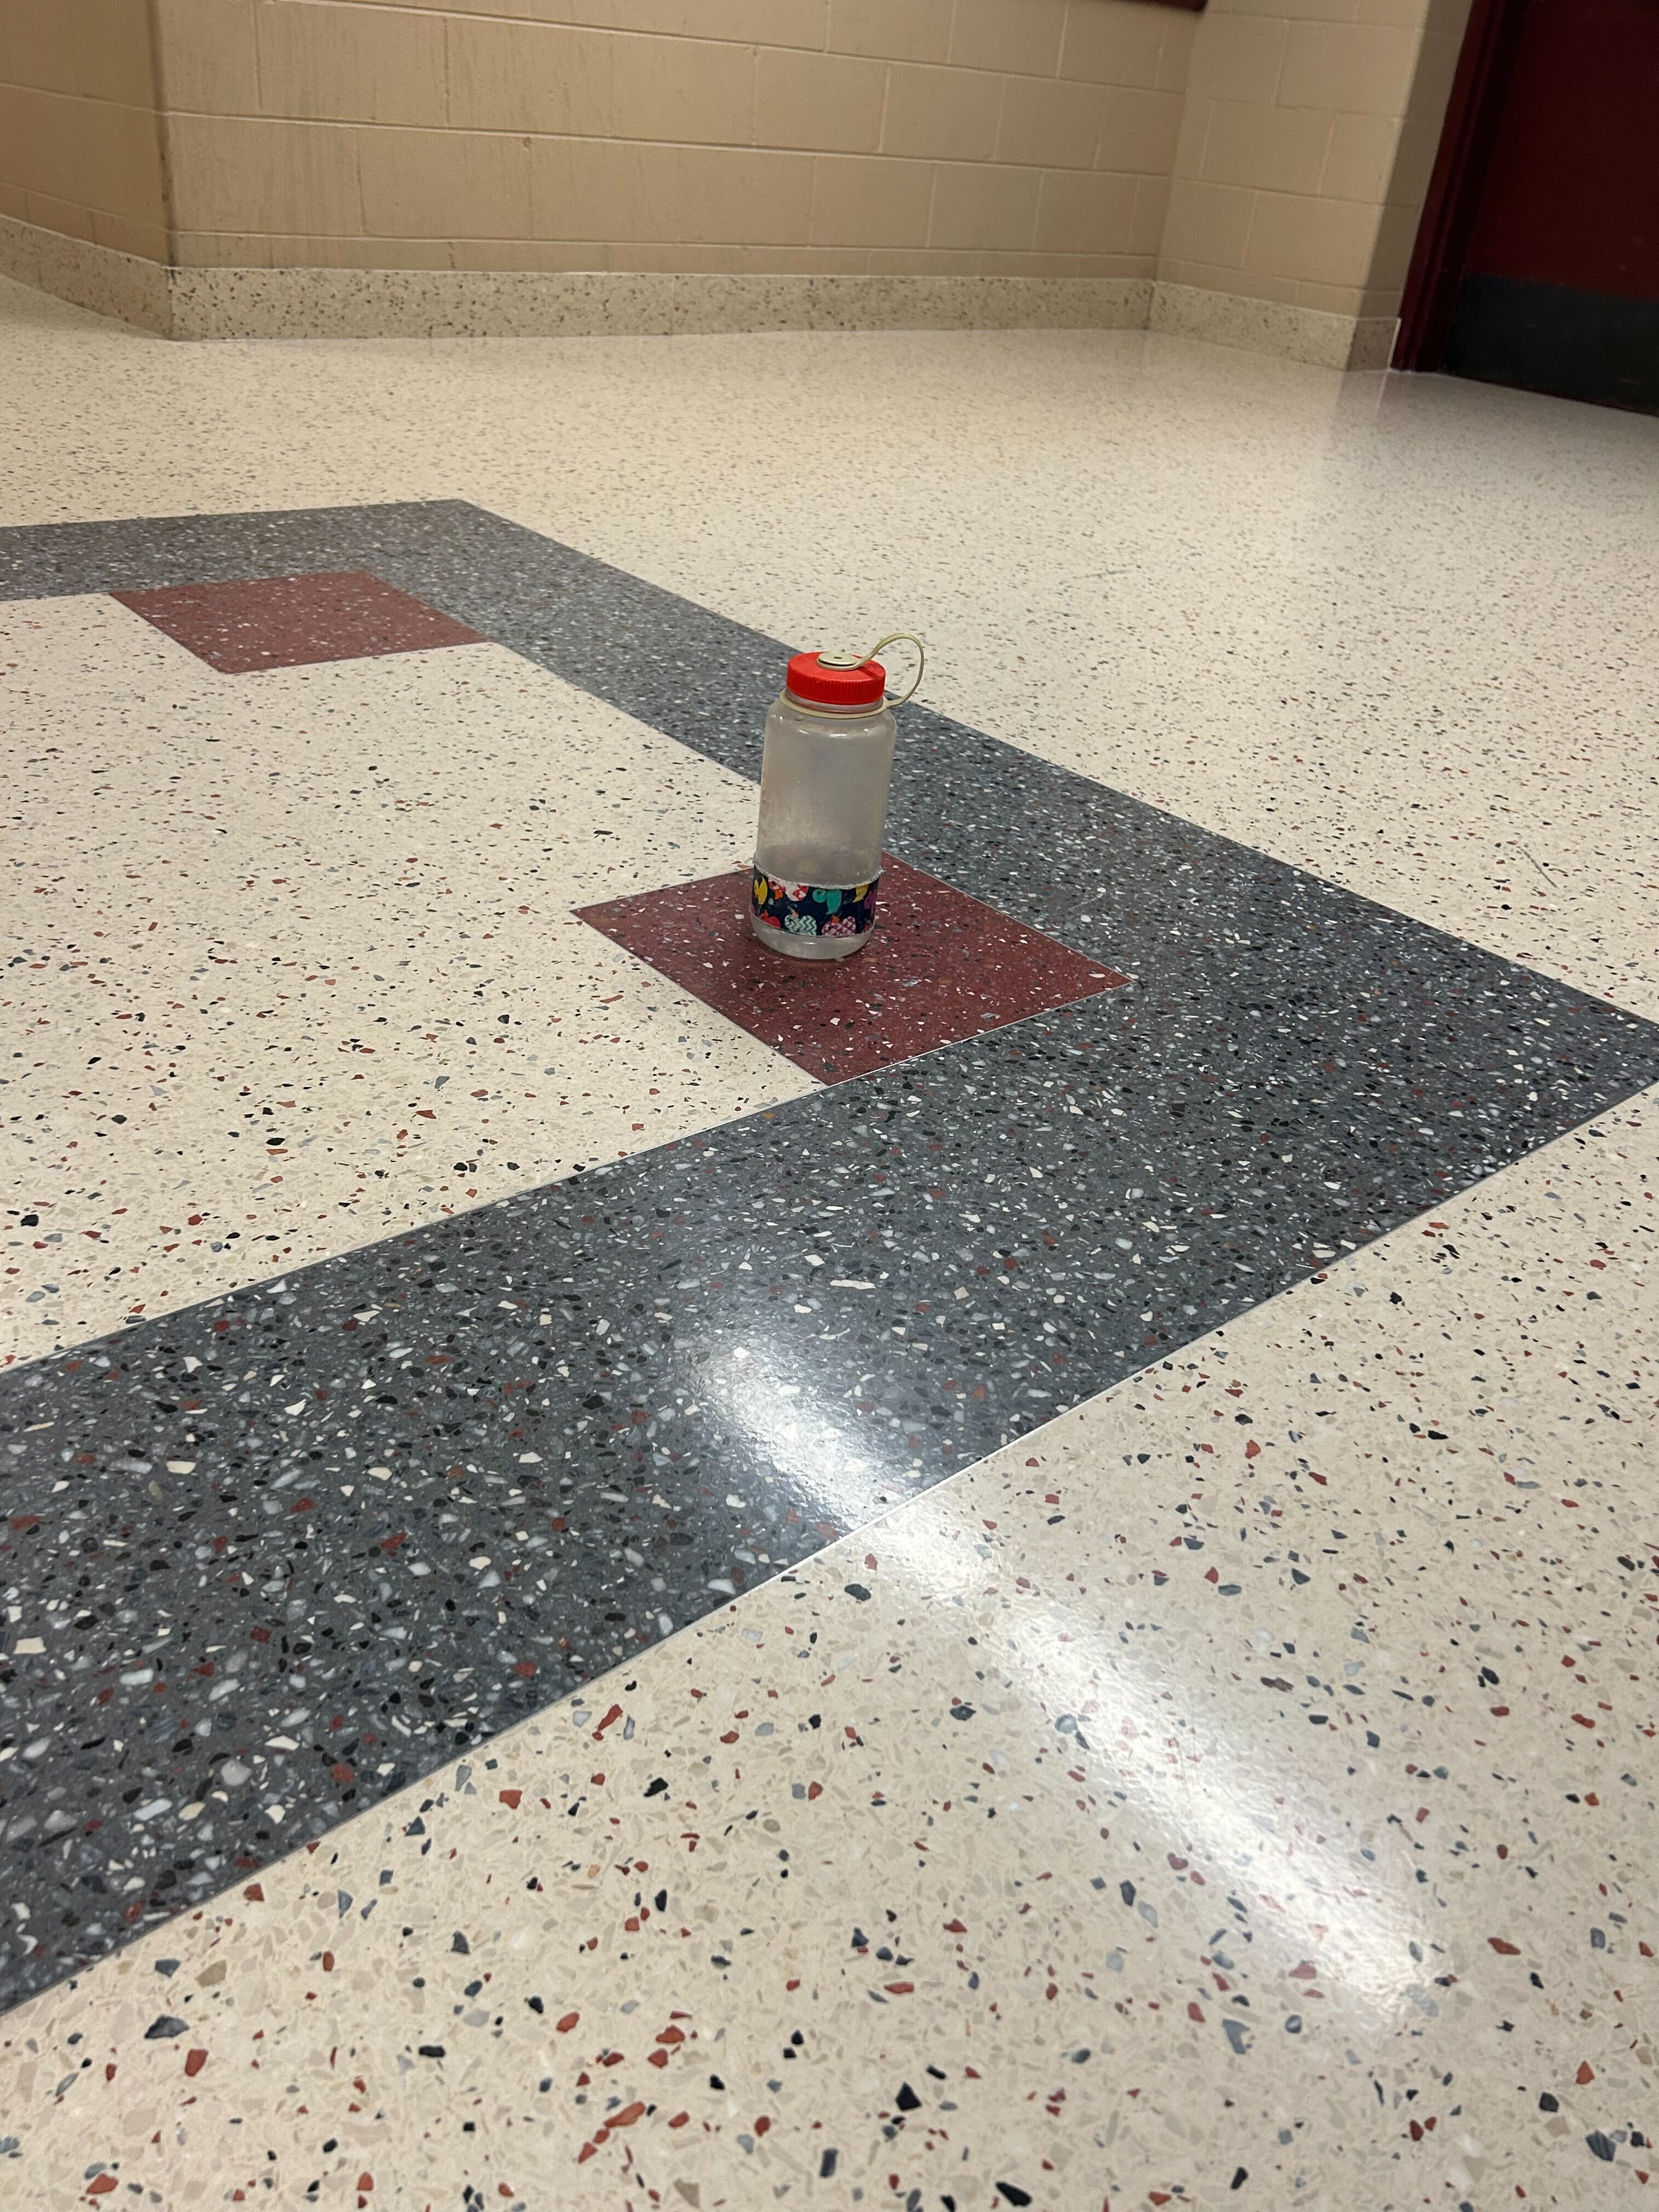bottle: (743, 622, 927, 972)
